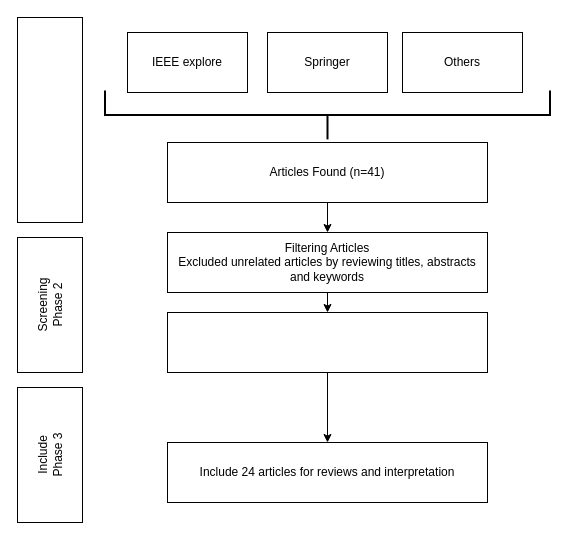
The diagram is 568 pixels wide and 540 high, and some of its shapes have lost their labels. The centre of each missing label's shape, as x and y in pixels:
"Identification Phase 1" goes at point 49,119.
"Selection Simple articles (n=30) for our analysis" goes at point 327,342.
